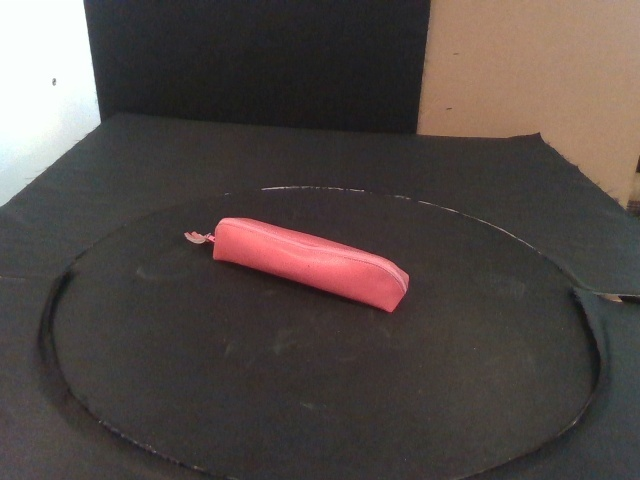pencil_case: (210, 215, 410, 314)
